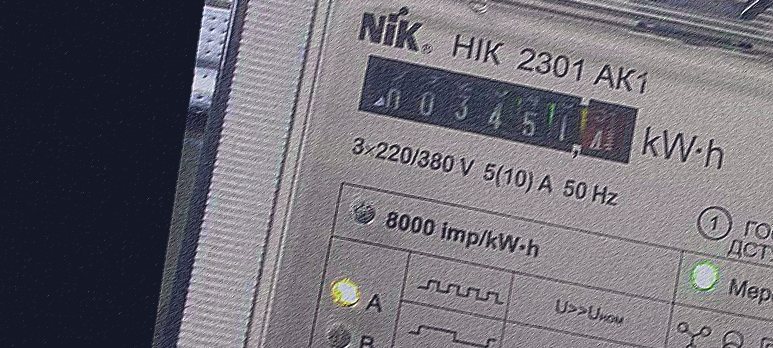0: (416, 87, 439, 118), (382, 82, 405, 112)
1: (554, 111, 574, 144)
3: (451, 90, 474, 123)
4: (483, 99, 508, 134), (584, 124, 608, 155)
5: (519, 106, 540, 140)
screen: (349, 48, 647, 173)
